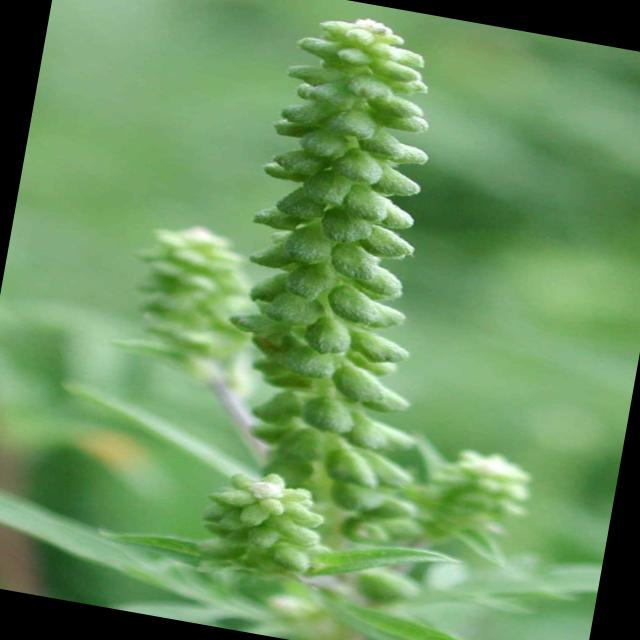ambrosia: (115, 0, 566, 637)
